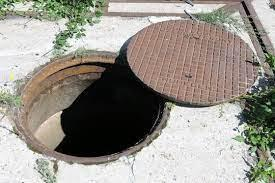open manhole-not overflowing-: (20, 27, 263, 164)
